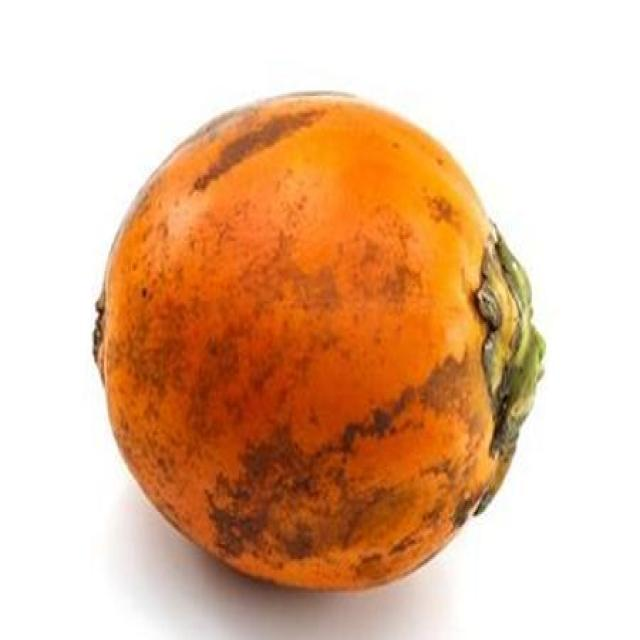good: (94, 92, 543, 587)
